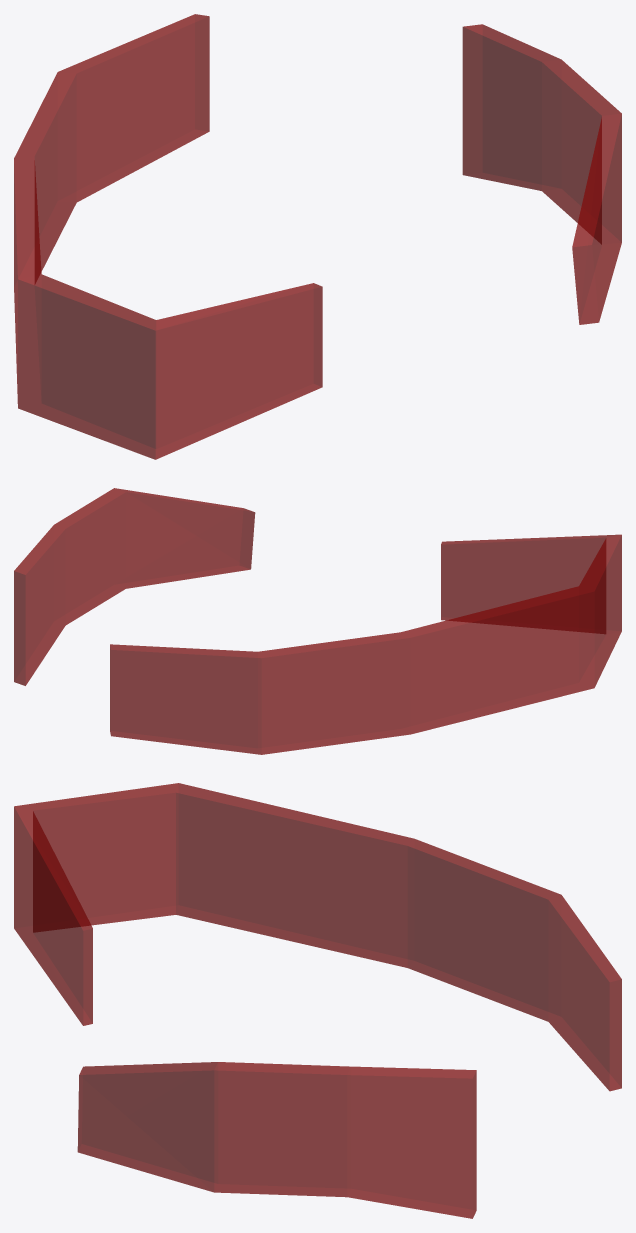
Rendered from _death.obj.
3 renders of one model, top to bottom at view 1: azimuth 30°, elevation 25°; view 2: azimuth 150°, elevation 25°; view 3: azimuth 270°, elevation 25°, orthographic. The views are drawn at different scales.
Bounding box in the file's own units: 350 × 84.06 × 308.
